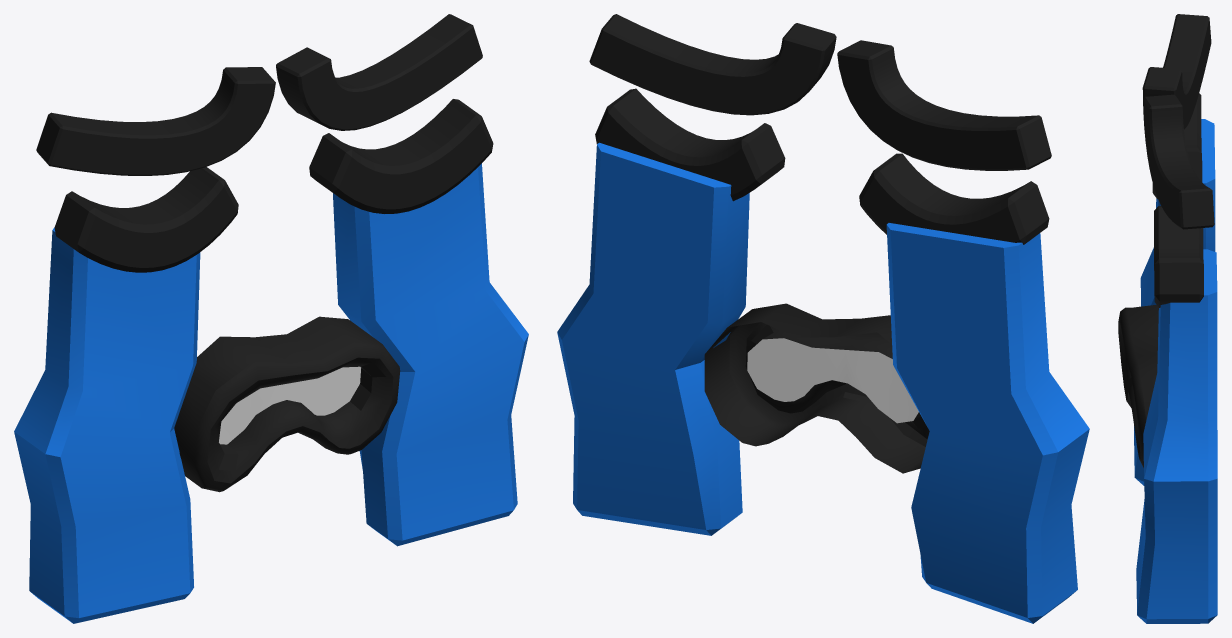
The model's file is sad.fbx.
The picture shows the model from 3 angles, left to right: view 1: azimuth 30°, elevation 25°; view 2: azimuth 150°, elevation 25°; view 3: azimuth 270°, elevation 25°; orthographic projection. The views are drawn at different scales.
Visible parts, largest first — view 1: Box002, Box001, Line009, Line012, Line010, Line011, Line013; view 2: Box002, Box001, Line009, Line010, Line012, Line013, Line011; view 3: Box001, Line010, Line012, Line009, Line011, Box002, Line013.
Boxes of the visible parts, x1=… form: Box002: x1=14, y1=227, x2=200, y2=623; Box001: x1=333, y1=163, x2=528, y2=546; Line009: x1=174, y1=316, x2=400, y2=492; Line012: x1=36, y1=67, x2=275, y2=175; Line010: x1=276, y1=14, x2=482, y2=130; Line011: x1=309, y1=99, x2=493, y2=213; Line013: x1=54, y1=167, x2=238, y2=272; Box002: x1=886, y1=223, x2=1089, y2=623; Box001: x1=557, y1=142, x2=749, y2=535; Line009: x1=704, y1=303, x2=929, y2=473; Line010: x1=589, y1=14, x2=836, y2=115; Line012: x1=837, y1=40, x2=1051, y2=170; Line013: x1=859, y1=153, x2=1049, y2=244; Line011: x1=595, y1=88, x2=785, y2=201; Box001: x1=1136, y1=249, x2=1217, y2=623; Line010: x1=1143, y1=94, x2=1214, y2=229; Line012: x1=1142, y1=14, x2=1211, y2=129; Line009: x1=1118, y1=304, x2=1158, y2=467; Line011: x1=1154, y1=206, x2=1203, y2=307; Box002: x1=1134, y1=119, x2=1215, y2=485; Line013: x1=1152, y1=93, x2=1202, y2=199.
Bounding box in the file's own units: 18.24 × 3.66 × 18.
